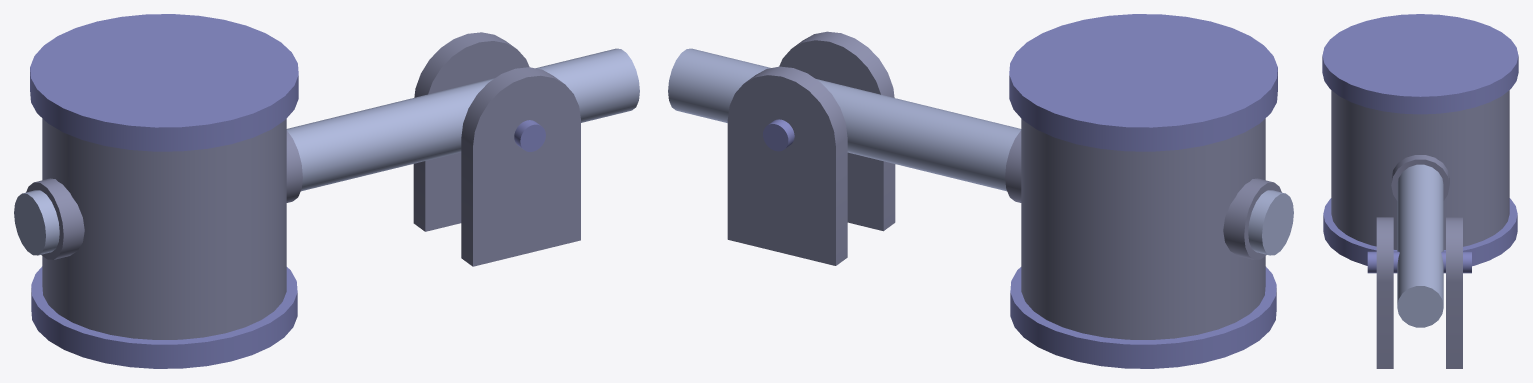
File: Hammer.fbx
The picture shows the model from 3 angles, left to right: view 1: azimuth 30°, elevation 25°; view 2: azimuth 150°, elevation 25°; view 3: azimuth 270°, elevation 25°; orthographic projection. The views are drawn at different scales.
Visible parts, largest first — view 1: Hammer_Head, Hammer_Base; view 2: Hammer_Head, Hammer_Base; view 3: Hammer_Head, Hammer_Base.
Part boxes in pixels (x1=…): Hammer_Head: x1=14, y1=14, x2=639, y2=368; Hammer_Base: x1=413, y1=32, x2=580, y2=266; Hammer_Head: x1=668, y1=14, x2=1293, y2=368; Hammer_Base: x1=727, y1=31, x2=895, y2=265; Hammer_Head: x1=1322, y1=14, x2=1518, y2=327; Hammer_Base: x1=1376, y1=217, x2=1462, y2=368.
Bounding box in the file's own units: 514 × 200 × 202.
